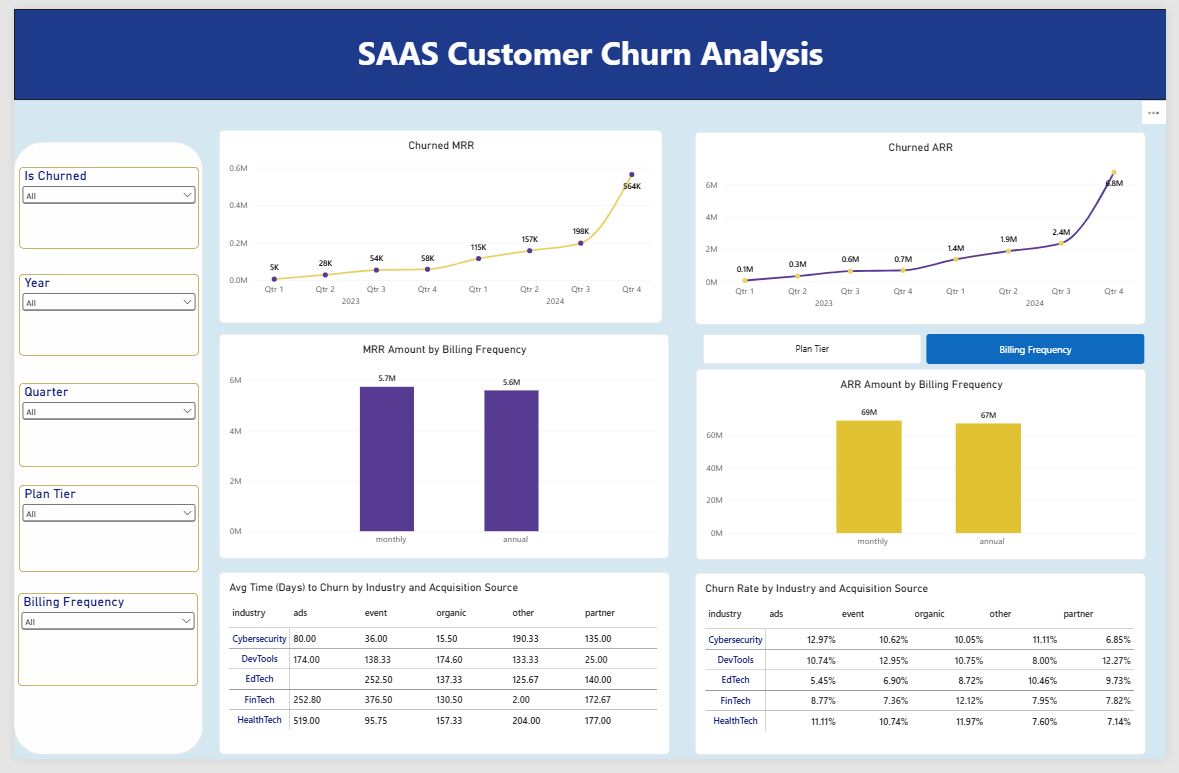

This screenshot's page, from the dashboard's own definition file:
{"tool":"powerbi","page":{"name":"Churn & Revenue Analysis","canvas":[1920,1250],"ordinal":1},"visuals":[{"type":"lineChart","title":"Churned ARR","fields":{"Category":["Calendar.Date.Variation.Date Hierarchy.Year","Calendar.Date.Variation.Date Hierarchy.Quarter"],"Y":["Measuress.Churned ARR"]},"box":[1135.8,204.5,750.6,320.7],"z":0},{"type":"lineChart","title":"Churned MRR ","fields":{"Category":["Calendar.Date.Variation.Date Hierarchy.Year","Calendar.Date.Variation.Date Hierarchy.Quarter"],"Y":["Measuress.Churned Mrr"]},"box":[342,201.4,739.1,321.7],"z":1000},{"type":"pivotTable","title":"Churn Rate by  Industry and Acquisition Source","fields":{"Columns":["ravenstack_accounts.referral_source"],"Rows":["ravenstack_accounts.industry"],"Values":["Measuress.Churn Rate"]},"box":[1135.8,940.3,750.7,303],"z":2000},{"type":"pivotTable","title":"Avg Time  (Days) to Churn by Industry and  Acquisition Source ","fields":{"Columns":["Qsn 5 output.referral_source"],"Rows":["Qsn 5 output.industry"],"Values":["Min(Qsn 5 output.avg_time_to_churn_days)"]},"box":[341.8,938.8,750.7,304.5],"z":3000},{"type":"clusteredColumnChart","title":"MRR Amount by Plan Tier","fields":{"Category":["ravenstack_subscriptions.plan_tier"],"Y":["Sum(ravenstack_subscriptions.mrr_amount)"]},"box":[340.8,539.5,739.5,385.5],"z":4000},{"type":"shape","box":[0,0,1921.2,151.9],"z":6000},{"type":"textbox","box":[564.3,35.8,791.4,300],"z":7000},{"type":"shape","box":[0,222.4,314.9,1020.9],"z":8000},{"type":"slicer","title":"ioiiio","fields":{"Values":["ravenstack_accounts.churn_flag"]},"box":[8.7,455.4,300,112],"z":9000},{"type":"slicer","title":"ioiiio","fields":{"Values":["Calendar.Date.Variation.Date Hierarchy.Year"]},"box":[8.7,592.4,300,109.8],"z":10000},{"type":"slicer","title":"ioiiio","fields":{"Values":["Calendar.Date.Variation.Date Hierarchy.Quarter"]},"box":[8.7,750,300,105.4],"z":11000},{"type":"slicer","title":"ioiiio","fields":{"Values":["ravenstack_accounts.plan_tier"]},"box":[8.7,896.7,300,107.6],"z":12000},{"type":"slicer","title":"ioiiio","fields":{"Values":["ravenstack_subscriptions.billing_frequency"]},"box":[7.6,1046.7,300,118.5],"z":13000},{"type":"clusteredColumnChart","title":"ARR  Amount by Plan Tier","fields":{"Category":["ravenstack_subscriptions.plan_tier"],"Y":["Sum(ravenstack_subscriptions.arr_amount)"]},"box":[1140.8,602.6,739.5,322.4],"z":14000},{"type":"bookmarkNavigator","box":[1148.5,542.4,737.4,50.5],"z":17001},{"type":"pageNavigator","box":[19.6,260.9,278.3,166.3],"z":17002}]}

Visuals, with their boxes in screenshot pixels (x1, y1, x2, y2), scaled from the page's 1920x1250 canvas onto the 1179x773 screenshot:
"Churned ARR" lineChart: (697,126,1158,325)
"Churned MRR " lineChart: (210,125,664,323)
"Churn Rate by  Industry and Acquisition Source" pivotTable: (697,581,1158,769)
"Avg Time  (Days) to Churn by Industry and  Acquisition Source " pivotTable: (210,581,671,769)
"MRR Amount by Plan Tier" clusteredColumnChart: (209,334,663,572)
shape: (0,0,1178,94)
textbox: (347,22,832,208)
shape: (0,138,193,769)
"ioiiio" slicer: (5,282,190,351)
"ioiiio" slicer: (5,366,190,434)
"ioiiio" slicer: (5,464,190,529)
"ioiiio" slicer: (5,555,190,621)
"ioiiio" slicer: (5,647,189,721)
"ARR  Amount by Plan Tier" clusteredColumnChart: (701,373,1155,572)
bookmarkNavigator: (705,335,1158,367)
pageNavigator: (12,161,183,264)
